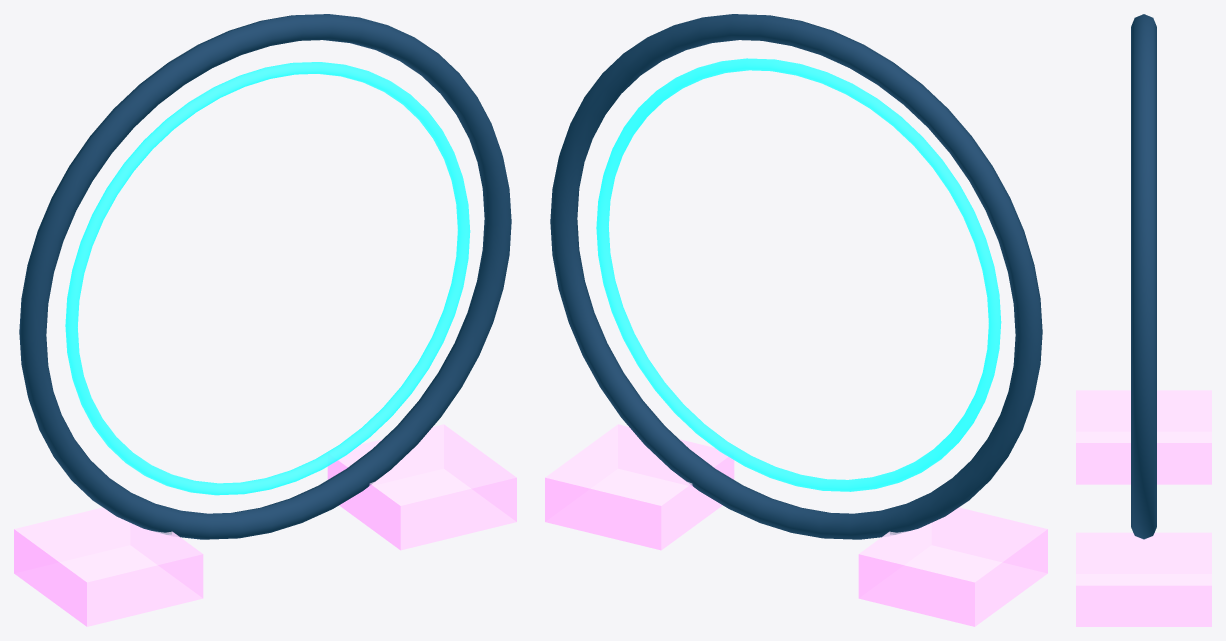
File: portal-ring-master-v1.candidate.glb
3 renders of one model, left to right at view 1: azimuth 30°, elevation 25°; view 2: azimuth 150°, elevation 25°; view 3: azimuth 270°, elevation 25°, orthographic. The views are drawn at different scales.
Visible parts, largest first — view 1: portal-outer-ring, portal-energy-ring, portal-base-left, portal-base-right; view 2: portal-outer-ring, portal-energy-ring, portal-base-left, portal-base-right; view 3: portal-outer-ring, portal-base-right, portal-base-left.
Part boxes in pixels (x1,y1,x2,y2): portal-outer-ring: [19, 14, 511, 539]; portal-energy-ring: [65, 62, 470, 495]; portal-base-left: [14, 507, 203, 626]; portal-base-right: [327, 424, 516, 550]; portal-outer-ring: [550, 14, 1042, 539]; portal-energy-ring: [596, 58, 1001, 491]; portal-base-left: [858, 507, 1047, 626]; portal-base-right: [545, 424, 734, 550]; portal-outer-ring: [1131, 14, 1156, 539]; portal-base-right: [1076, 532, 1211, 626]; portal-base-left: [1076, 390, 1211, 484].
Size of the model in its own units: 4.84 by 4.98 by 1.25.
